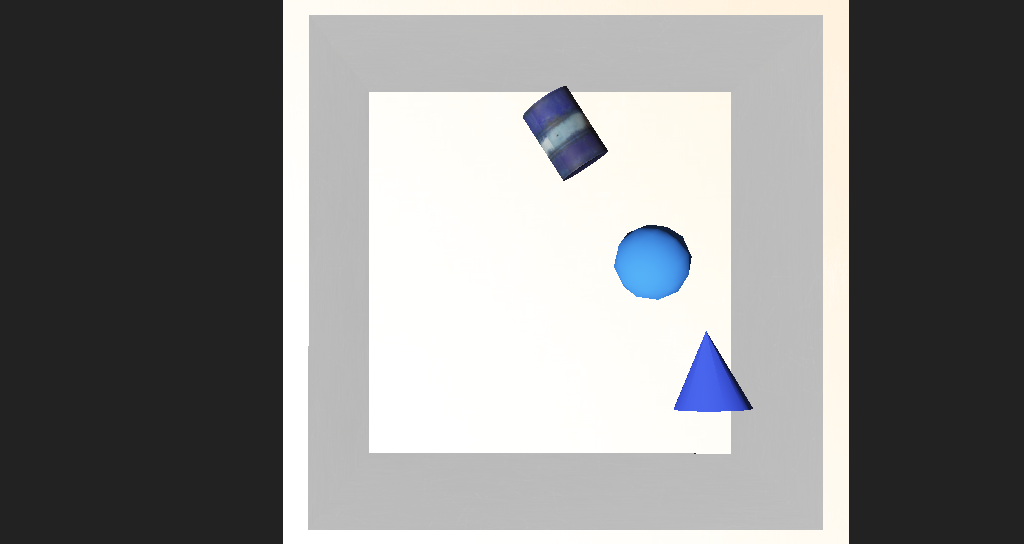cone: (482, 157, 556, 215)
cylinder: (603, 296, 677, 353)
sphere: (563, 241, 623, 284)
